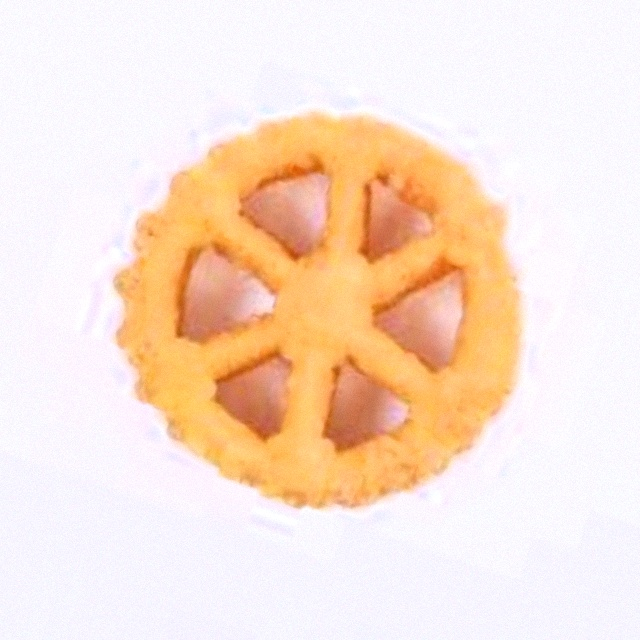Kokis: (98, 103, 542, 537)
